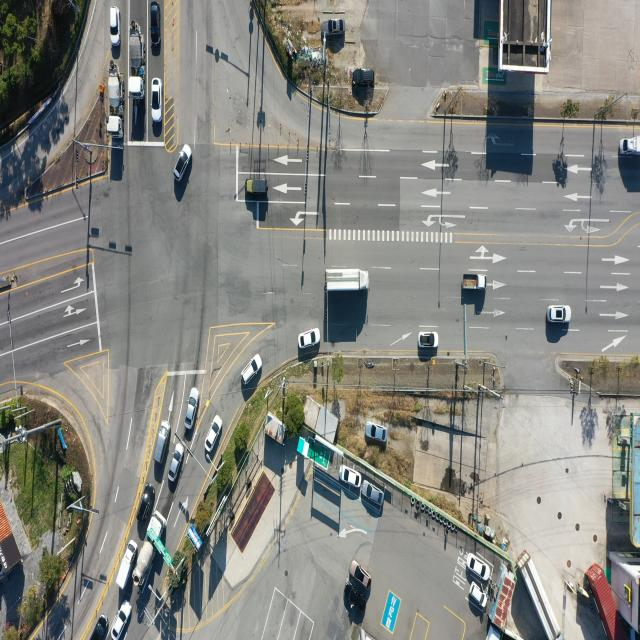car: (344, 585, 368, 624), (110, 600, 131, 639), (156, 420, 172, 465), (204, 416, 222, 454), (350, 561, 372, 592), (174, 145, 192, 182), (242, 353, 262, 385), (168, 442, 184, 481), (470, 554, 492, 582), (184, 388, 198, 431), (138, 488, 154, 523), (300, 327, 322, 349), (340, 465, 362, 487), (470, 583, 488, 609), (363, 485, 384, 507), (364, 422, 387, 442), (151, 78, 161, 123), (548, 306, 572, 324), (321, 20, 345, 38), (90, 615, 107, 640), (150, 1, 159, 48), (352, 67, 375, 85), (245, 178, 268, 195), (110, 6, 120, 44), (418, 333, 439, 350)
medium_truck: (522, 552, 562, 638), (132, 513, 166, 595), (106, 74, 124, 140), (130, 28, 146, 96), (326, 271, 370, 293)
small_truck: (116, 534, 138, 582), (462, 274, 488, 291), (620, 136, 640, 156)
